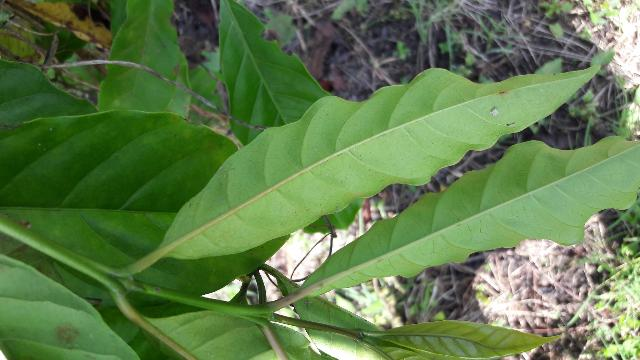healthy: (161, 66, 596, 257)
